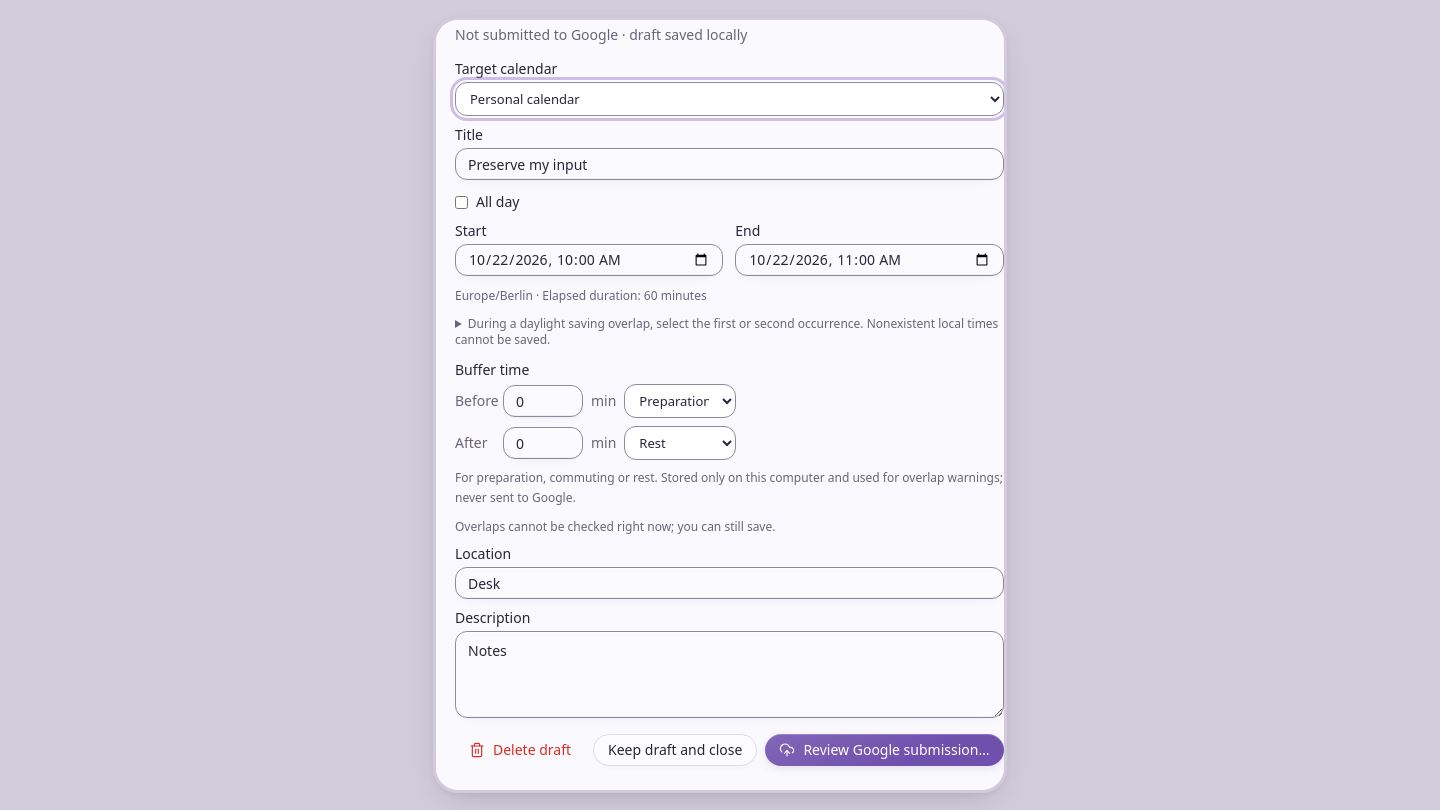
Scenario: calendar editor › requires a target preview and retains typed data after Google fails
(page scrolled)
Click the button "Review Google submission…" at (884, 750), box [765, 734, 1004, 766]
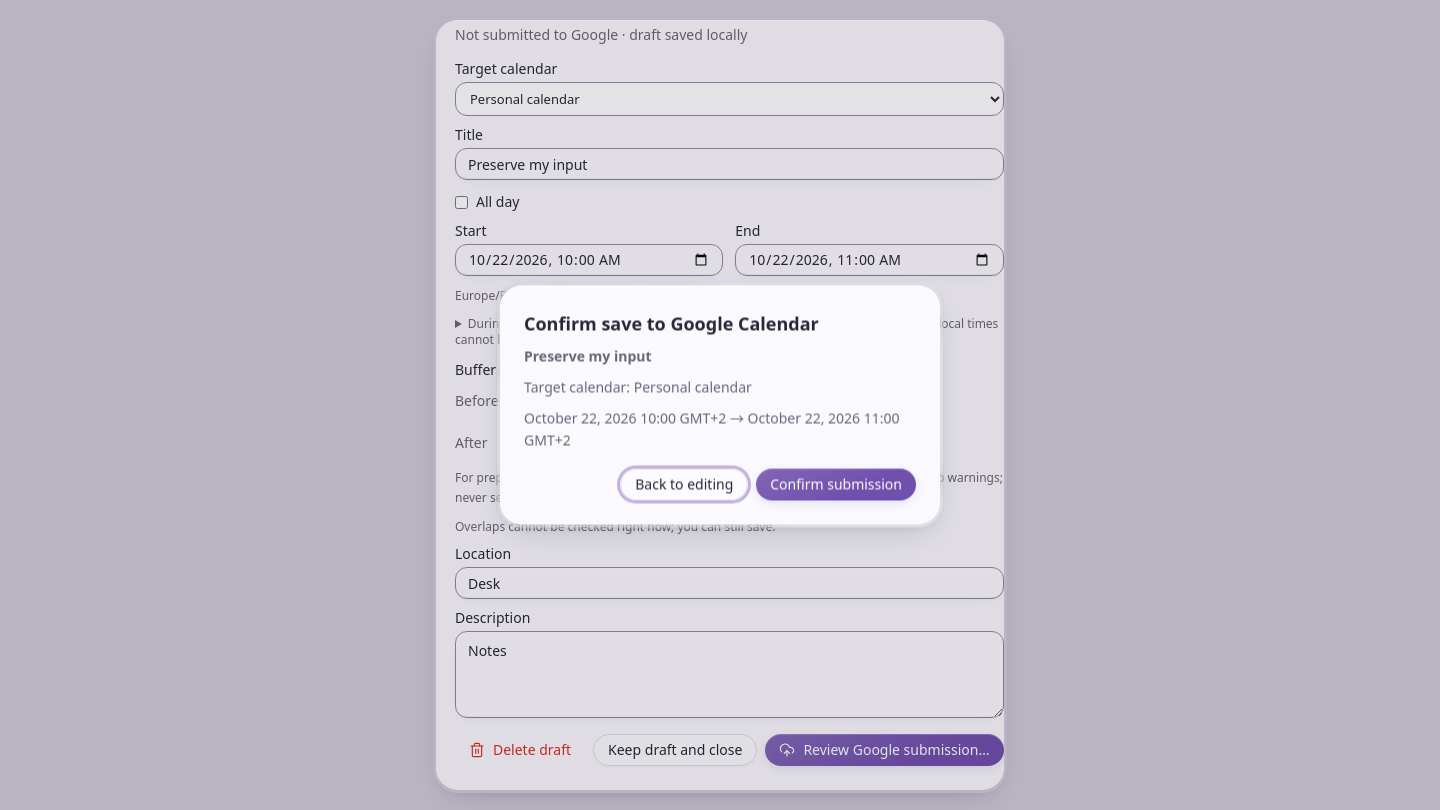
Now the dialog that starts with "Confirm save to Google Calendar" shows "Personal calendar", box [634, 377, 752, 396]
Click the button "Confirm submission" at (836, 484), box [756, 468, 916, 500]
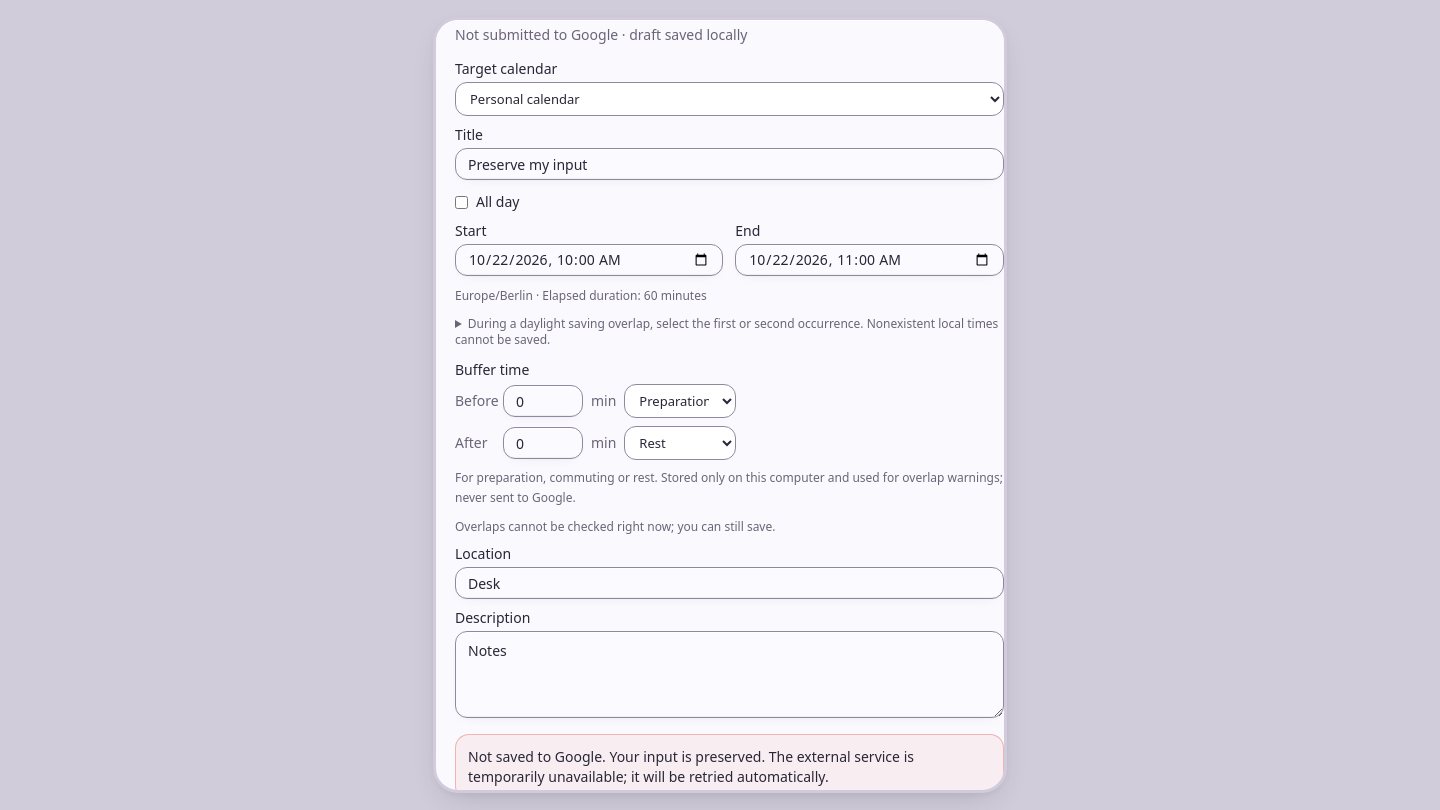
Expected: the field labelled "Title" holds "Preserve my input", [455, 148, 1004, 180]
Now the 2nd message is shown, box [455, 734, 1004, 794]
